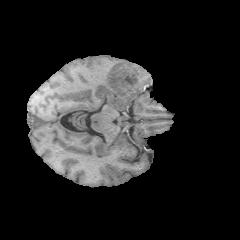glioma: (103, 58, 151, 102)
